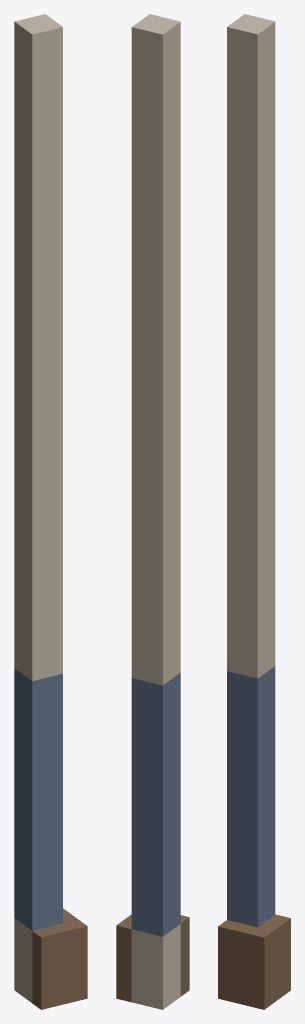
File: Mesh_WallBaseboard2Colors_F6.fbx
3 renders of one model, left to right at view 1: azimuth 30°, elevation 25°; view 2: azimuth 150°, elevation 25°; view 3: azimuth 330°, elevation 25°, orthographic.
Visible parts, largest first — view 1: Mesh_WallBaseboard2Colors_F6; view 2: Mesh_WallBaseboard2Colors_F6; view 3: Mesh_WallBaseboard2Colors_F6.
Boxes of the visible parts, bbox=[...] form: Mesh_WallBaseboard2Colors_F6: bbox=[14, 14, 87, 1009]; Mesh_WallBaseboard2Colors_F6: bbox=[116, 14, 189, 1009]; Mesh_WallBaseboard2Colors_F6: bbox=[218, 14, 290, 1009].
Size of the model in its own units: 0.15 by 3 by 0.15.
